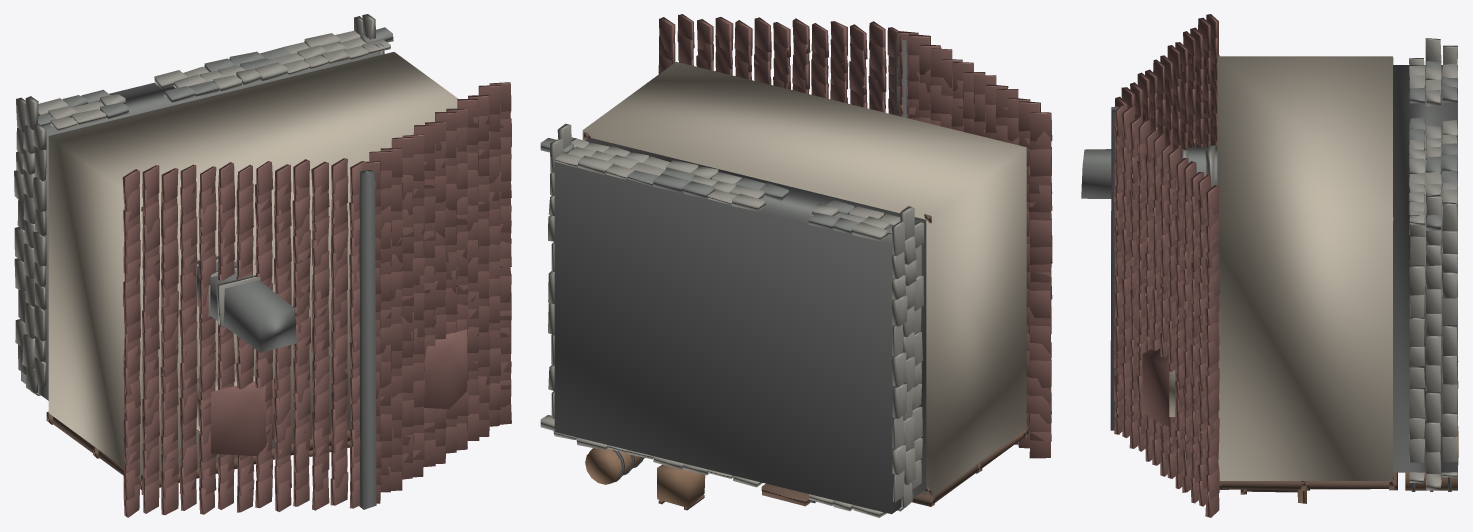
The model's file is house_large_hd.glb.
The picture shows the model from 3 angles, left to right: view 1: azimuth 30°, elevation 25°; view 2: azimuth 150°, elevation 25°; view 3: azimuth 270°, elevation 25°; orthographic projection. The views are drawn at different scales.
Bounding box in the file's own units: 8.88 × 7.78 × 7.84.
